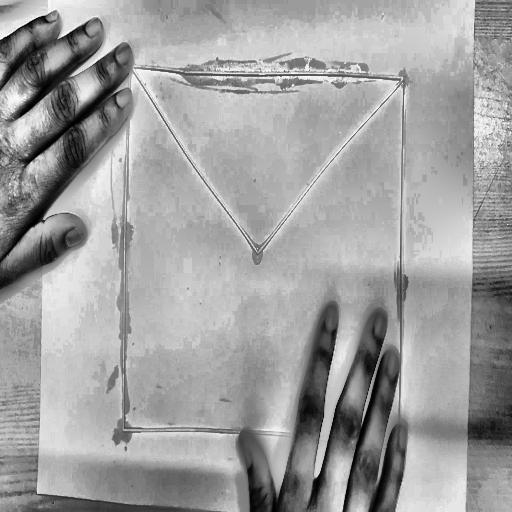bottom_left: (33, 482, 43, 501)
envelop: (116, 60, 411, 463)
